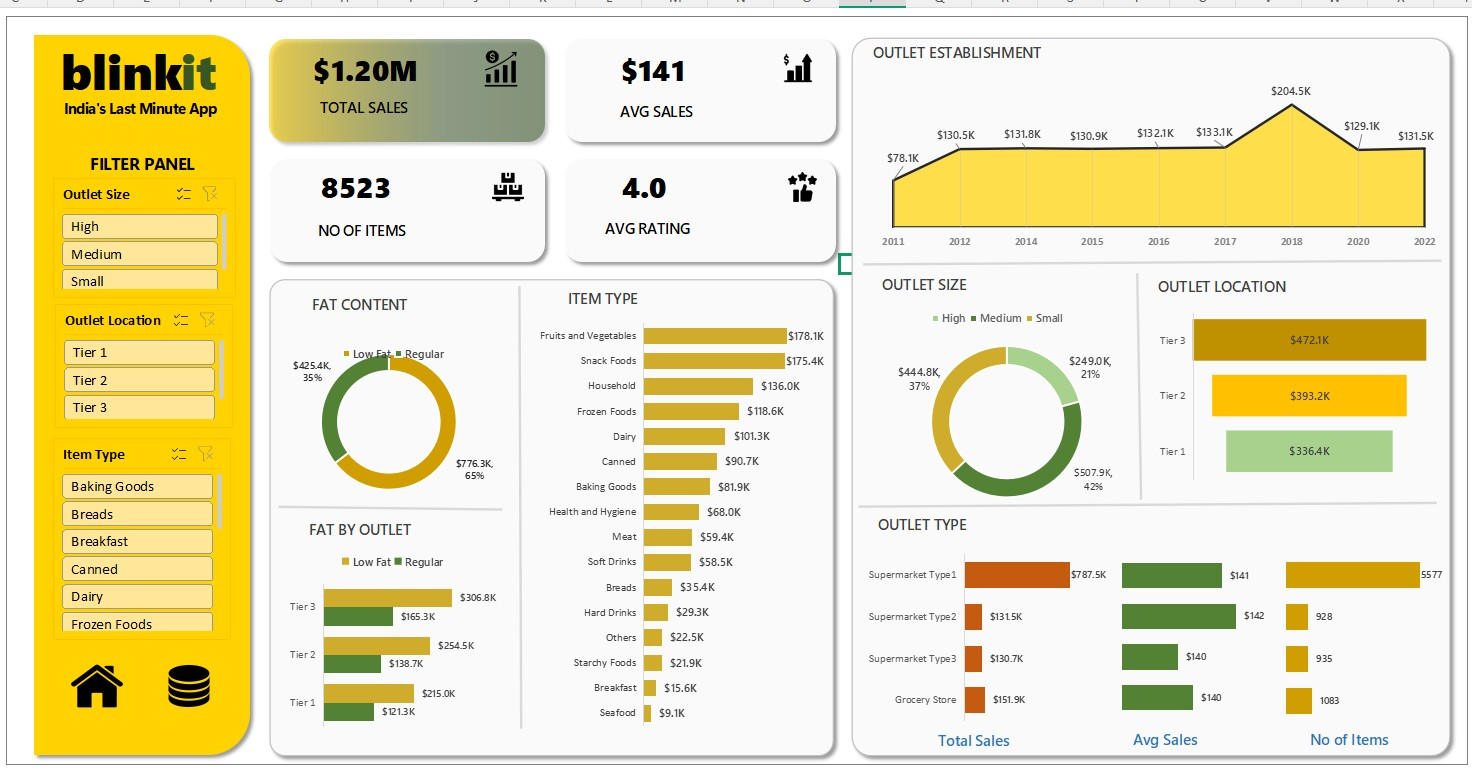

The dashboard page shown, as its layout file describes it:
{"tool":"powerbi","page":{"name":"Page 1","canvas":[1400,800],"ordinal":0},"visuals":[{"type":"shape","box":[21.4,28.2,205.1,760.1],"z":0},{"type":"textbox","box":[36.2,53.6,168.9,80.4],"z":1000},{"type":"textbox","box":[36.2,111.3,168.9,36.2],"z":2000},{"type":"cardVisual","fields":{"Data":["BlinkIT Grocery Data.Total Sales","BlinkIT Grocery Data.Avg Sales","BlinkIT Grocery Data.No of Items","BlinkIT Grocery Data.Avg Rating"]},"box":[213.1,9.4,559,262.7],"z":3000},{"type":"image","box":[398.1,71,56.3,40.2],"z":4000},{"type":"image","box":[678.3,77.7,41.6,33.5],"z":5000},{"type":"image","box":[408.8,186.3,45.6,36.2],"z":6000},{"type":"image","box":[678.3,181.8,49.6,37.5],"z":7000},{"type":"shape","box":[225.2,248,546.9,545.6],"z":8000},{"type":"donutChart","title":"FAT CONTENT","fields":{"Y":["BlinkIT Grocery Data.Total Sales"],"Category":["BlinkIT Grocery Data.Item Fat Content"]},"box":[245,312.3,238.6,230.6],"z":9000},{"type":"slicer","fields":{"Values":["Metrics.Metrics"]},"box":[261.4,264.1,465.1,42.6],"z":10000},{"type":"cardVisual","fields":{"Data":["BlinkIT Grocery Data.Total Sales"]},"box":[307,427.6,115.3,57.6],"z":11000},{"type":"clusteredBarChart","title":"FAT BY OUTLET","fields":{"Y":["BlinkIT Grocery Data.Total Sales"],"Category":["BlinkIT Grocery Data.Outlet Location Type"],"Series":["BlinkIT Grocery Data.Item Fat Content"]},"box":[246.7,561.7,239.9,221.2],"z":12000},{"type":"shape","box":[257.4,536.2,212.6,19.8],"z":13000},{"type":"shape","box":[486.3,318.8,20.4,465.1],"z":14000},{"type":"barChart","title":"ITEM TYPE","fields":{"Y":["BlinkIT Grocery Data.Total Sales"],"Category":["BlinkIT Grocery Data.Item Type"]},"box":[506.7,315,249.6,463.8],"z":15000},{"type":"shape","box":[769.4,38.9,627.3,761.4],"z":16000},{"type":"lineChart","title":"OUTLET ESTABLISHMENT","fields":{"Y":["BlinkIT Grocery Data.Total Sales"],"Category":["BlinkIT Grocery Data.Outlet Establishment Year"]},"box":[786.9,49.6,589.5,234.6],"z":17000},{"type":"shape","box":[785.5,541.6,592.5,20.1],"z":18000},{"type":"donutChart","title":"OUTLET SIZE","fields":{"Y":["BlinkIT Grocery Data.Total Sales"],"Category":["BlinkIT Grocery Data.Outlet Size"]},"box":[786.9,307,275,225],"z":19000},{"type":"shape","box":[1061.7,308.3,21.4,223.9],"z":20000},{"type":"funnel","title":"OUTLET LOCATION","fields":{"Y":["BlinkIT Grocery Data.Total Sales"],"Category":["BlinkIT Grocery Data.Outlet Location Type"]},"box":[1081.8,307,290.9,225.2],"z":21000},{"type":"shape","box":[780.2,276.1,592.5,21.4],"z":22000},{"type":"pivotTable","title":"OUTLET TYPE","fields":{"Rows":["BlinkIT Grocery Data.Outlet Type"],"Values":["BlinkIT Grocery Data.Total Sales","BlinkIT Grocery Data.No of Items","BlinkIT Grocery Data.Avg Sales","BlinkIT Grocery Data.Avg Rating","Avg(BlinkIT Grocery Data.Item Visibility)"]},"box":[782.8,576.4,596.5,211.8],"z":23000},{"type":"slicer","fields":{"Values":["BlinkIT Grocery Data.Outlet Location Type"]},"box":[37.5,261.4,174.3,71],"z":24000},{"type":"slicer","fields":{"Values":["BlinkIT Grocery Data.Outlet Size"]},"box":[36.2,356.6,174.3,71],"z":25000},{"type":"slicer","fields":{"Values":["BlinkIT Grocery Data.Item Type"]},"box":[36.2,461.1,174.3,71],"z":26000},{"type":"textbox","box":[45.6,219.8,150.1,41.6],"z":27000}]}

Visuals, with their boxes on the page's 1400x800 design canvas (x1, y1, x2, y2). These are canvas units, not pixel positions in the 1472x777 screenshot, which may show the page scaled, cropped or inside an application window:
shape: <bbox>21, 28, 226, 788</bbox>
textbox: <bbox>36, 54, 205, 134</bbox>
textbox: <bbox>36, 111, 205, 148</bbox>
cardVisual - BlinkIT Grocery Data.Total Sales x BlinkIT Grocery Data.Avg Sales: <bbox>213, 9, 772, 272</bbox>
image: <bbox>398, 71, 454, 111</bbox>
image: <bbox>678, 78, 720, 111</bbox>
image: <bbox>409, 186, 454, 222</bbox>
image: <bbox>678, 182, 728, 219</bbox>
shape: <bbox>225, 248, 772, 794</bbox>
"FAT CONTENT" donutChart: <bbox>245, 312, 484, 543</bbox>
slicer - Metrics.Metrics: <bbox>261, 264, 726, 307</bbox>
cardVisual - BlinkIT Grocery Data.Total Sales: <bbox>307, 428, 422, 485</bbox>
"FAT BY OUTLET" clusteredBarChart: <bbox>247, 562, 487, 783</bbox>
shape: <bbox>257, 536, 470, 556</bbox>
shape: <bbox>486, 319, 507, 784</bbox>
"ITEM TYPE" barChart: <bbox>507, 315, 756, 779</bbox>
shape: <bbox>769, 39, 1397, 800</bbox>
"OUTLET ESTABLISHMENT" lineChart: <bbox>787, 50, 1376, 284</bbox>
shape: <bbox>786, 542, 1378, 562</bbox>
"OUTLET SIZE" donutChart: <bbox>787, 307, 1062, 532</bbox>
shape: <bbox>1062, 308, 1083, 532</bbox>
"OUTLET LOCATION" funnel: <bbox>1082, 307, 1373, 532</bbox>
shape: <bbox>780, 276, 1373, 298</bbox>
"OUTLET TYPE" pivotTable: <bbox>783, 576, 1379, 788</bbox>
slicer - BlinkIT Grocery Data.Outlet Location Type: <bbox>38, 261, 212, 332</bbox>
slicer - BlinkIT Grocery Data.Outlet Size: <bbox>36, 357, 210, 428</bbox>
slicer - BlinkIT Grocery Data.Item Type: <bbox>36, 461, 210, 532</bbox>
textbox: <bbox>46, 220, 196, 261</bbox>
